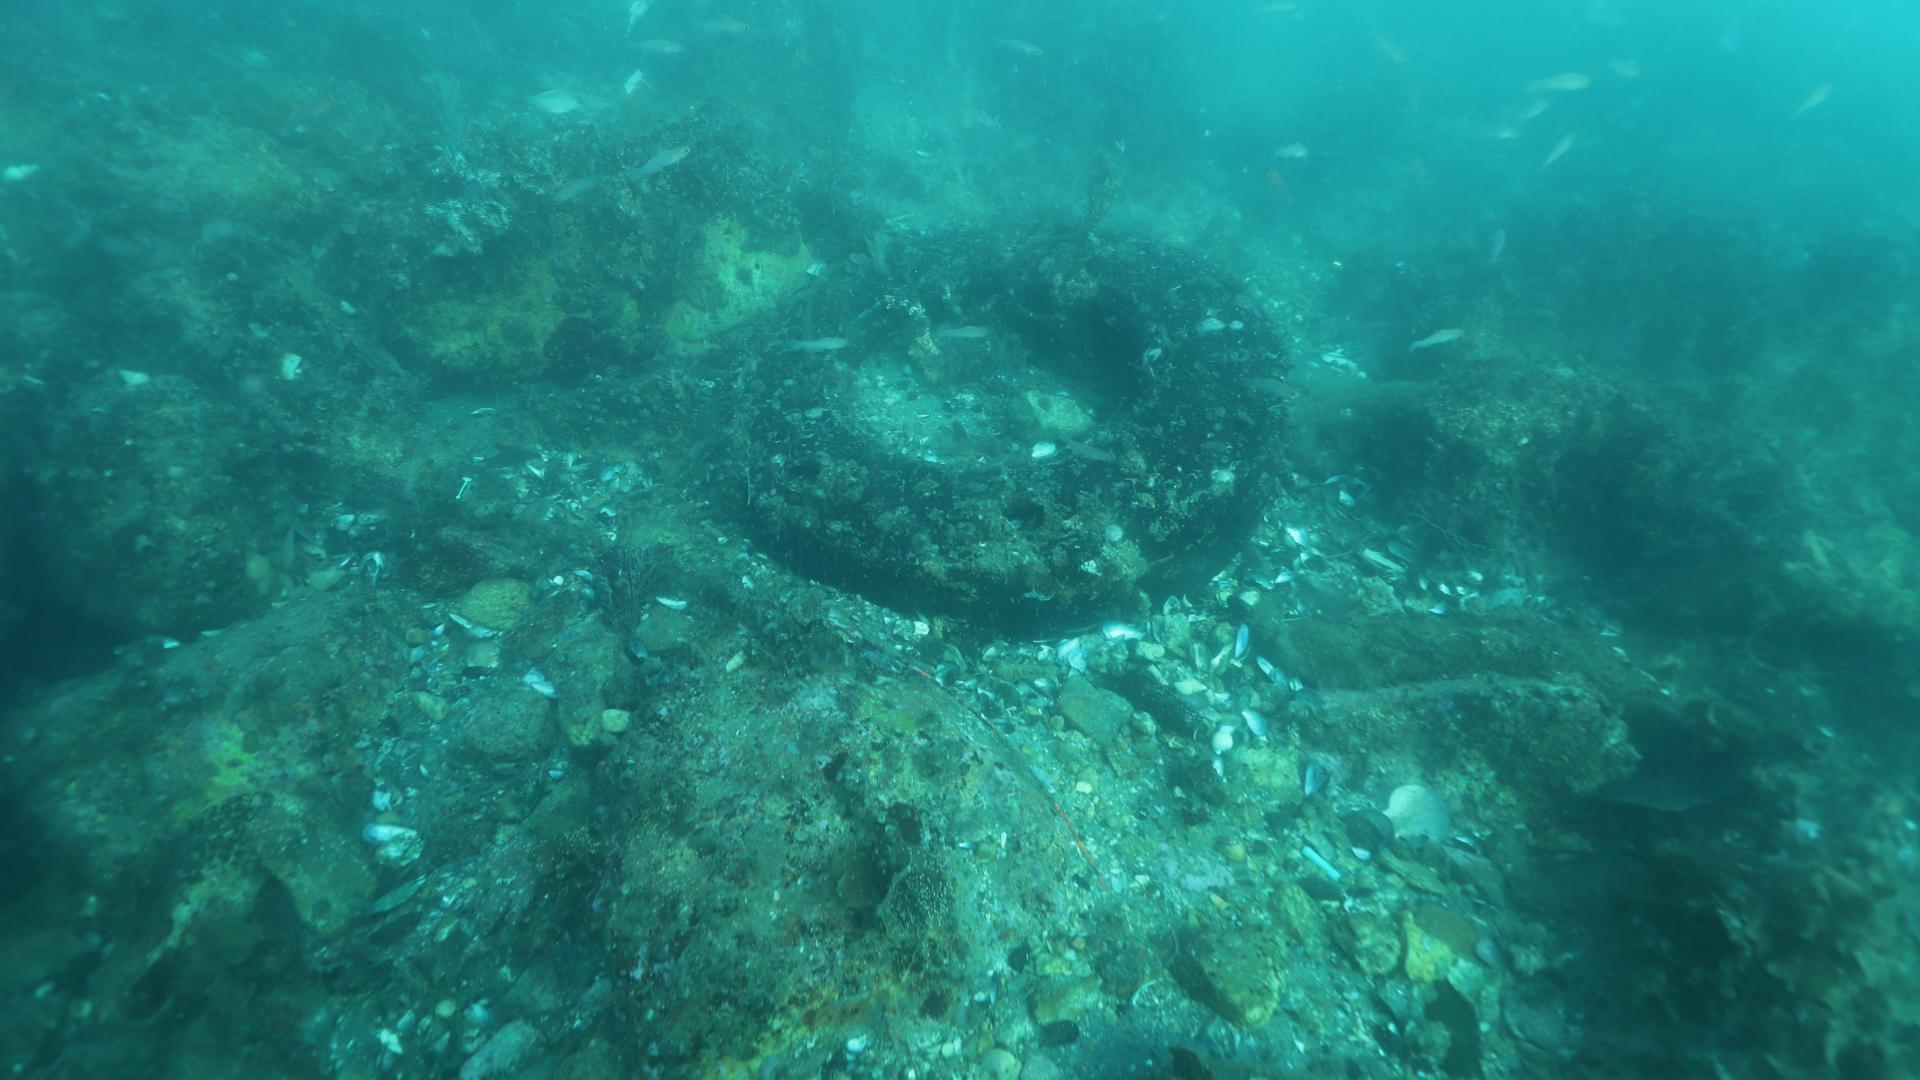tire: (708, 222, 1287, 618)
